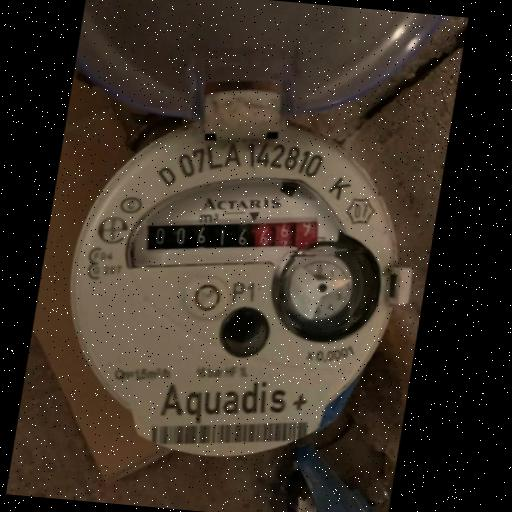0: (165, 223, 193, 251), (147, 223, 173, 252)
1: (210, 222, 237, 250)
6: (186, 222, 218, 251), (250, 220, 279, 248), (230, 222, 258, 250), (271, 220, 298, 248)
9: (291, 221, 320, 252)
border_water_meter_number: (138, 200, 330, 276)
